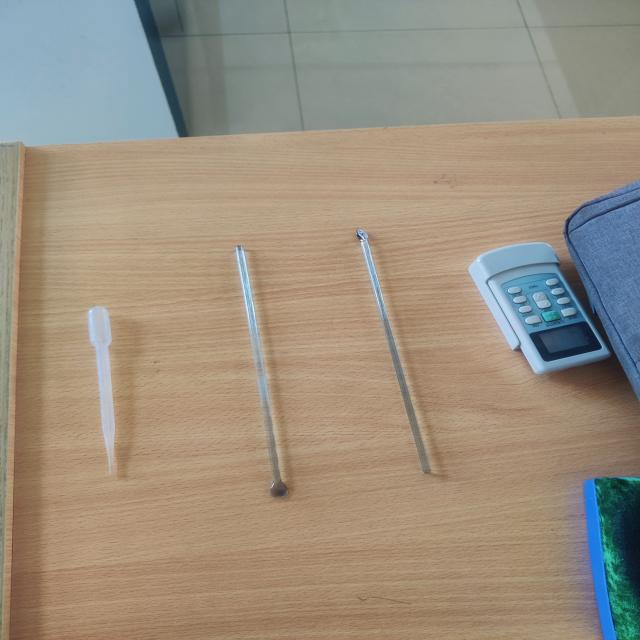Glass_Rod: (327, 215, 464, 492), (197, 226, 321, 510)
Pipette: (69, 286, 154, 498)
